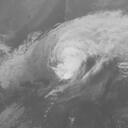cyclone: (53, 52, 87, 83)
